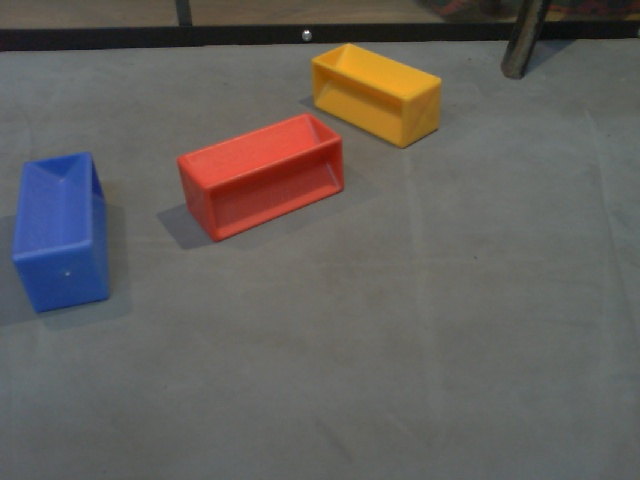BlueSample: (10, 150, 116, 312)
RedSample: (173, 110, 349, 245)
YellowSample: (308, 38, 444, 152)
